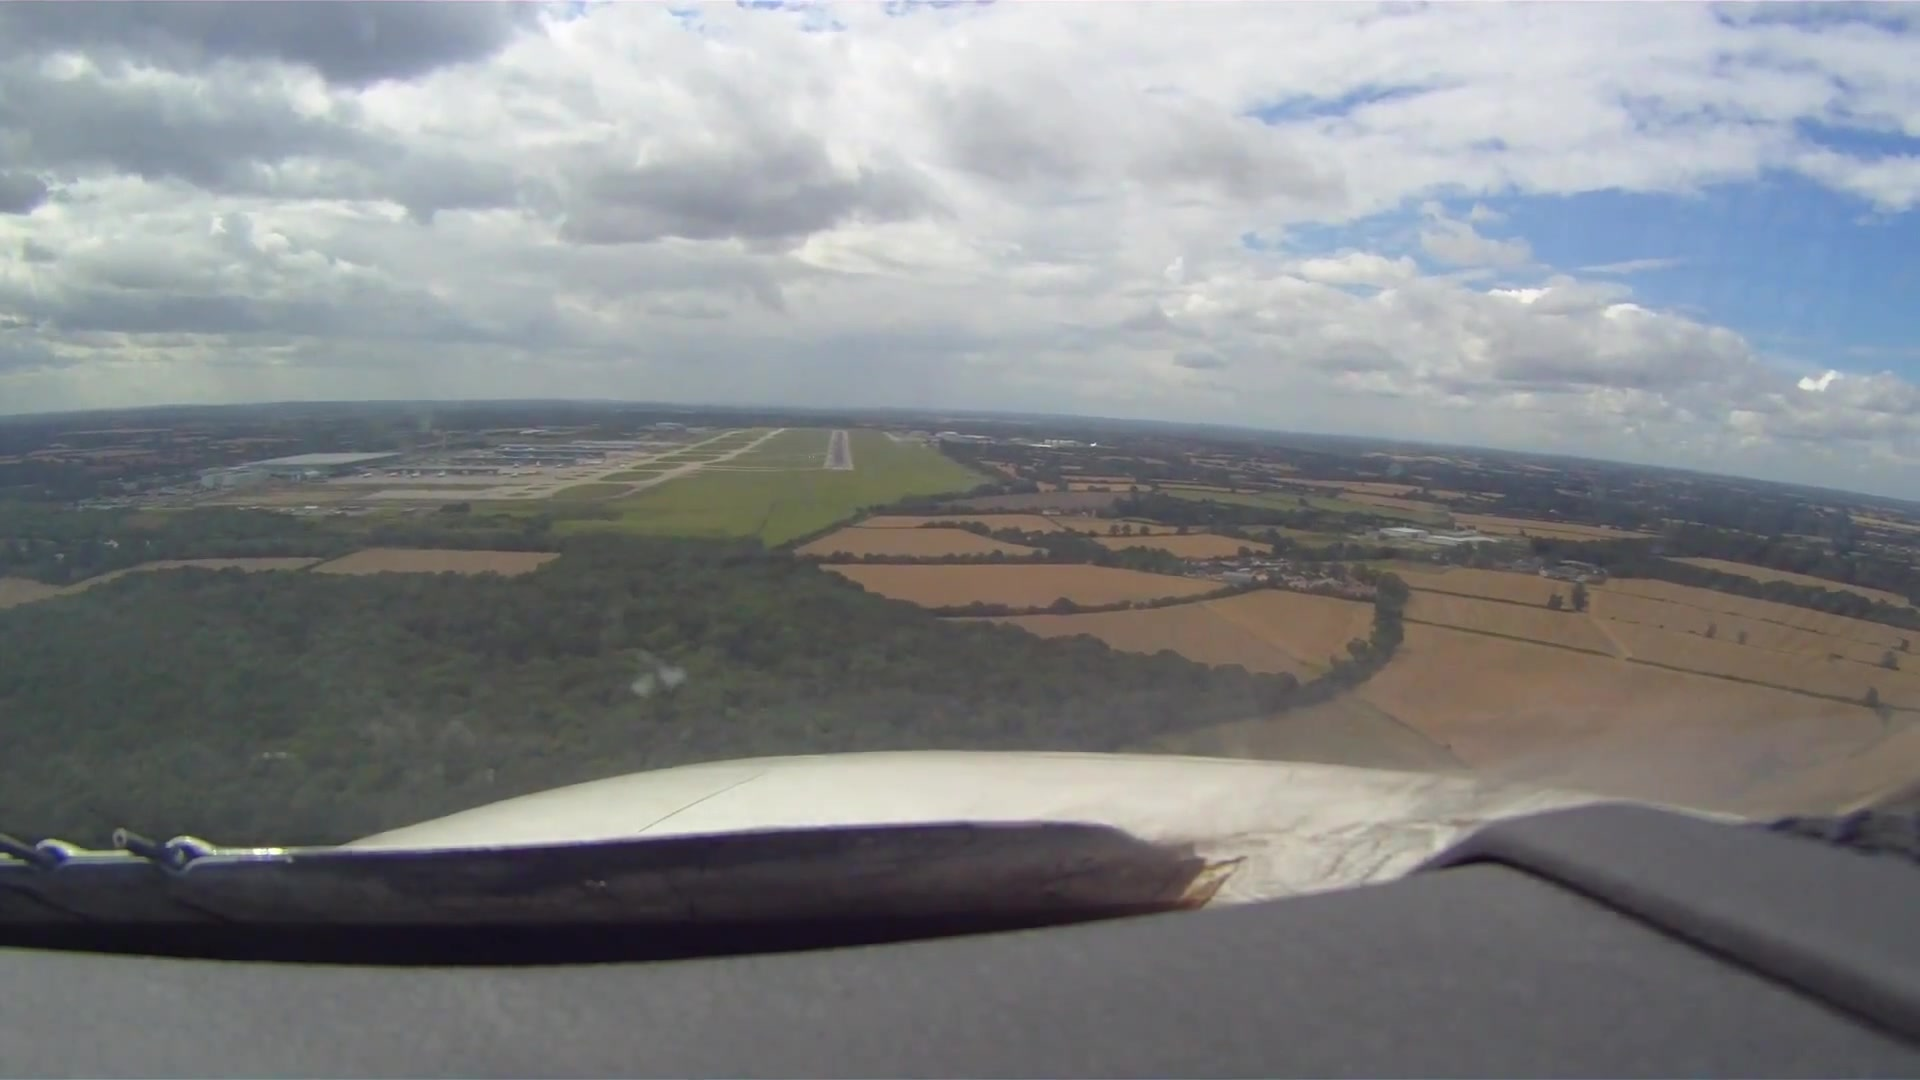runway: (822, 430, 855, 469)
